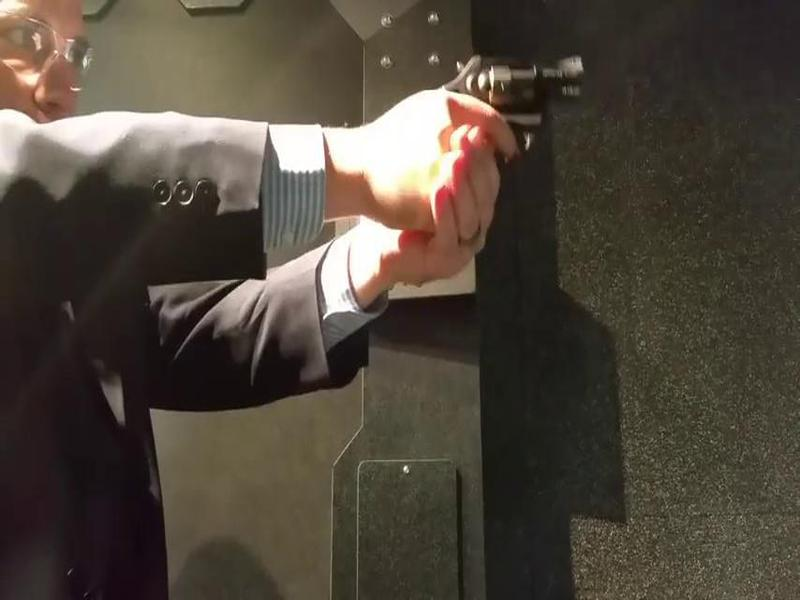Revolver: (439, 52, 598, 155)
